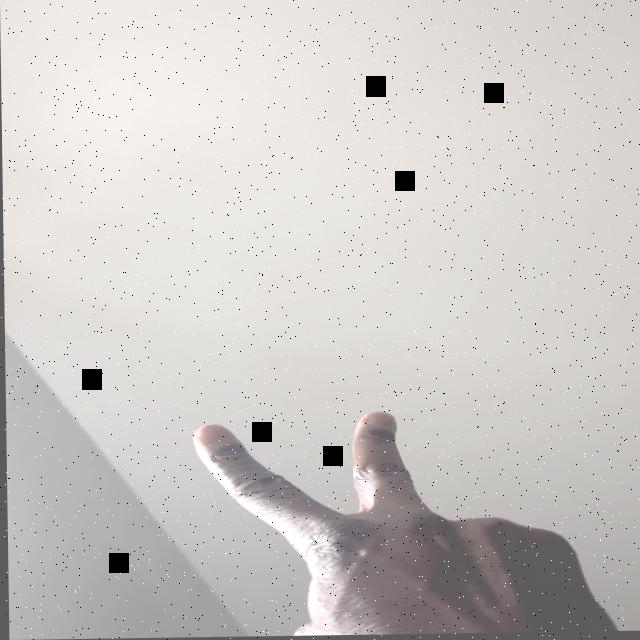Scissors: (192, 409, 612, 638)
